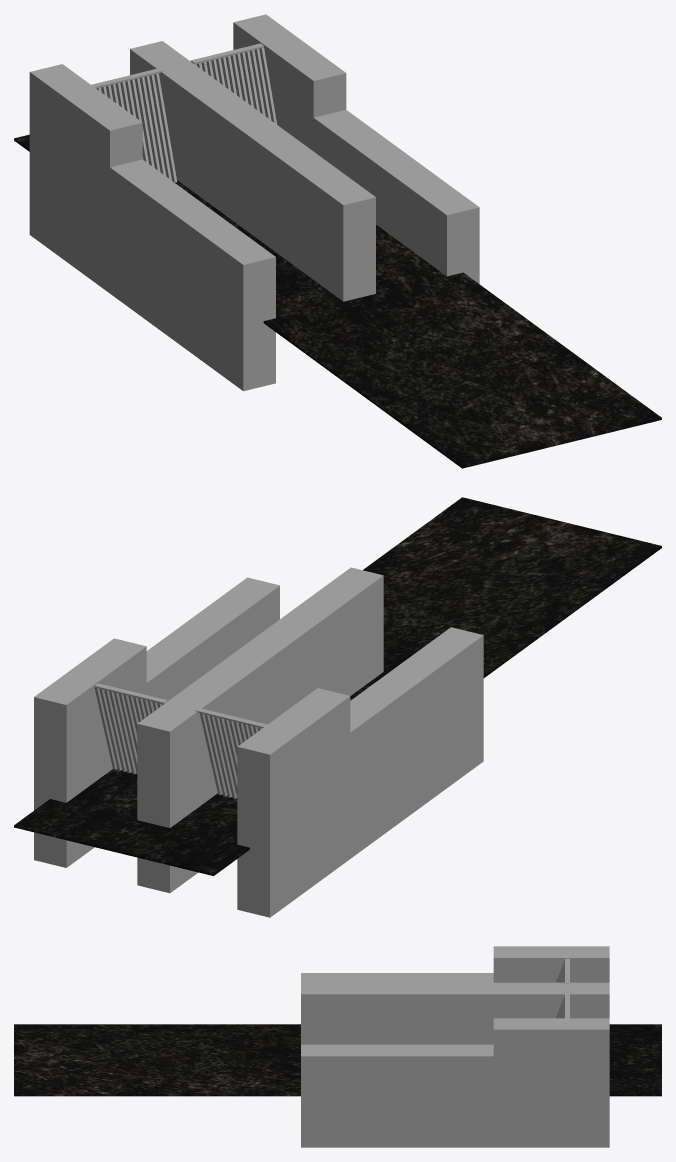
File: bar_screen_set.fbx
3 views of the same model, one above another, from view 1: azimuth 30°, elevation 25°; view 2: azimuth 150°, elevation 25°; view 3: azimuth 270°, elevation 25° (orthographic). The views are drawn at different scales.
Visible parts, largest first — view 1: sewage1, brick1, brick2, brick, bar_screen_2, bar_screen; view 2: brick1, sewage1, brick2, brick, bar_screen, bar_screen_2; view 3: brick, sewage1, brick2, brick1.
Part boxes in pixels (x1=…): sewage1: x1=14, y1=134, x2=661, y2=468; brick1: x1=29, y1=64, x2=275, y2=391; brick2: x1=130, y1=41, x2=375, y2=301; brick: x1=233, y1=14, x2=479, y2=283; bar_screen_2: x1=91, y1=68, x2=177, y2=182; bar_screen: x1=190, y1=43, x2=277, y2=124; brick1: x1=237, y1=627, x2=483, y2=917; sewage1: x1=14, y1=497, x2=661, y2=875; brick2: x1=137, y1=567, x2=383, y2=893; brick: x1=34, y1=577, x2=279, y2=867; bar_screen: x1=94, y1=683, x2=167, y2=774; bar_screen_2: x1=195, y1=708, x2=266, y2=798; brick: x1=301, y1=1018, x2=609, y2=1147; sewage1: x1=14, y1=1024, x2=661, y2=1096; brick2: x1=301, y1=982, x2=609, y2=1044; brick1: x1=301, y1=946, x2=609, y2=982.
Bounding box in the file's own units: 338 × 223 × 1112.
2 materials, 1 textured.
